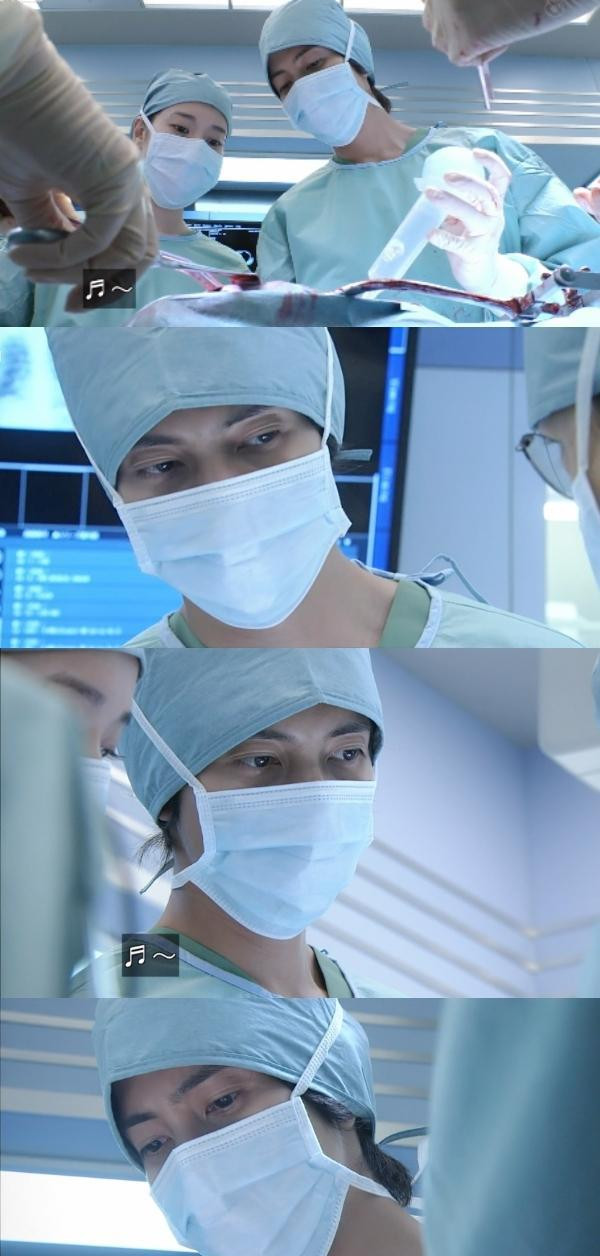OK: (164, 718, 391, 945), (120, 406, 345, 631), (109, 1070, 293, 1254), (139, 103, 253, 217), (273, 53, 368, 148)
